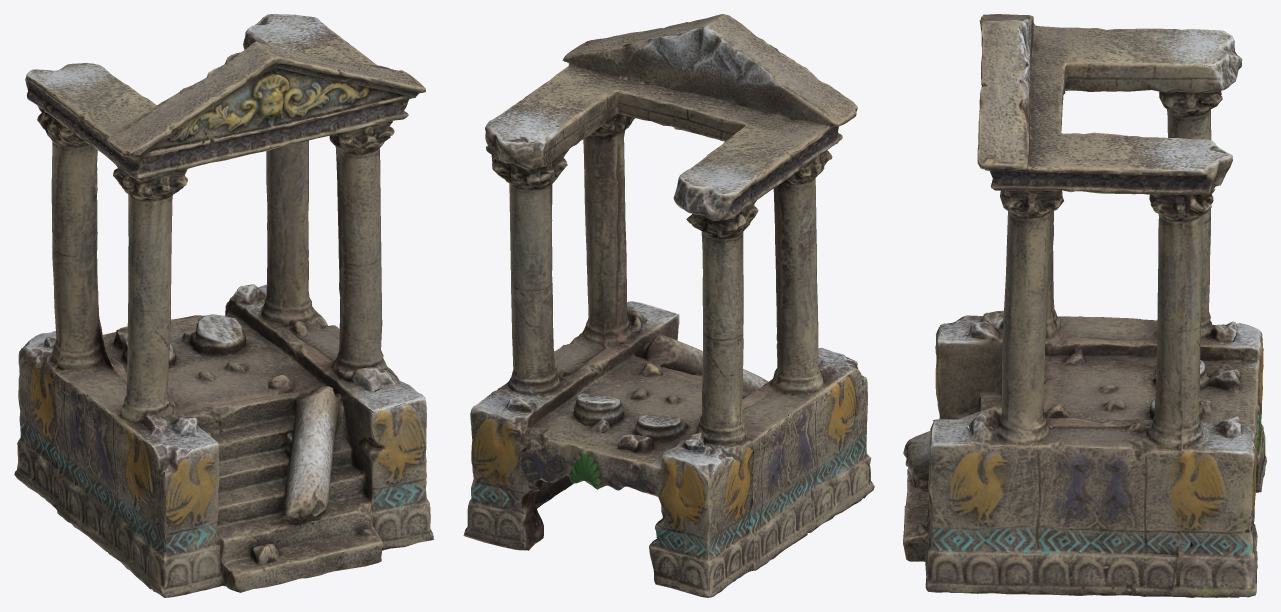
Rendered from temple.glb.
The picture shows the model from 3 angles, left to right: view 1: azimuth 30°, elevation 25°; view 2: azimuth 150°, elevation 25°; view 3: azimuth 270°, elevation 25°; orthographic projection. The views are drawn at different scales.
Visible parts, largest first — view 1: temple; view 2: temple; view 3: temple.
Part boxes in pixels (x1=…): temple: x1=14, y1=14, x2=434, y2=597; temple: x1=463, y1=14, x2=874, y2=597; temple: x1=903, y1=14, x2=1266, y2=597.
Size of the model in its own units: 0.6269 by 1 by 0.6483.
1 material, 1 textured.
